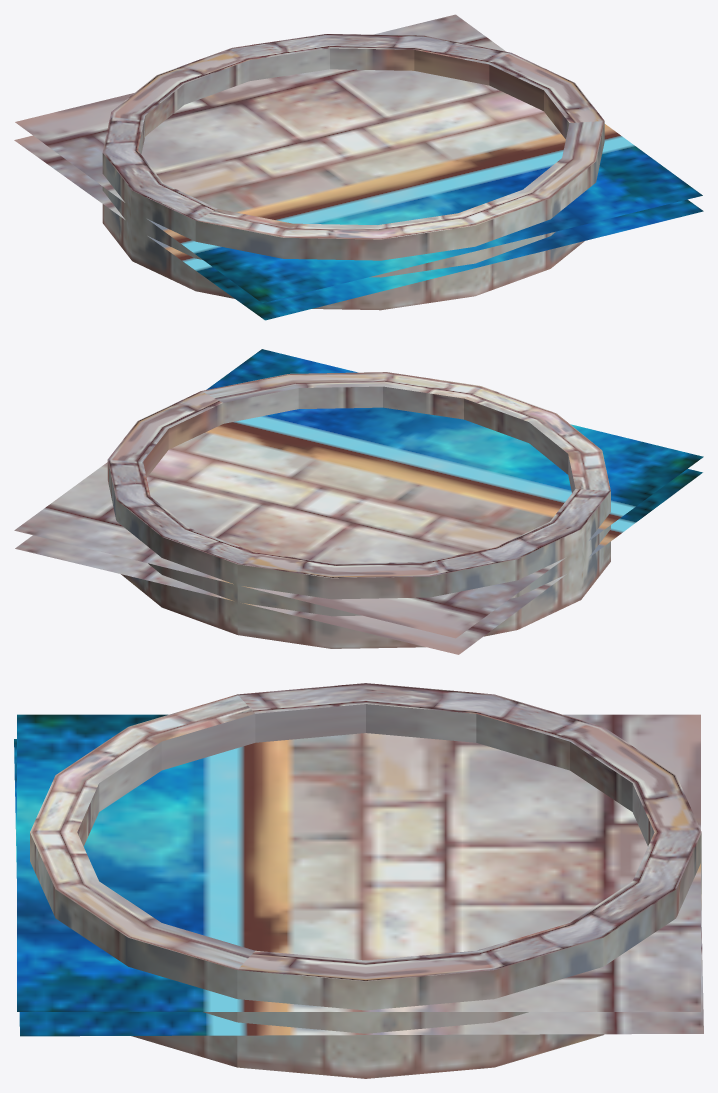
The model's file is hydra_pool.dae.
The picture shows the model from 3 angles, top to bottom: view 1: azimuth 30°, elevation 25°; view 2: azimuth 150°, elevation 25°; view 3: azimuth 270°, elevation 25°; orthographic projection. The views are drawn at different scales.
Parts seen in each view (by area): view 1: Plane03, Cylinder02, Plane04; view 2: Plane03, Cylinder02, Plane04; view 3: Plane03, Cylinder02, Plane04.
Part boxes in pixels (x1,y1,x2,y2): Plane03: (15, 14, 702, 303); Cylinder02: (102, 34, 604, 310); Plane04: (14, 135, 703, 320); Plane03: (14, 349, 703, 638); Cylinder02: (107, 372, 610, 648); Plane04: (15, 469, 702, 654); Plane03: (17, 714, 700, 1011); Cylinder02: (30, 683, 701, 1078); Plane04: (14, 739, 703, 1036).
Bounding box in the file's own units: 4.74 × 0.7159 × 4.59.
2 materials, 2 textured.
